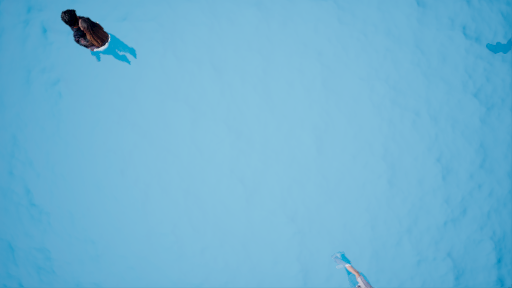person: (56, 8, 142, 66), (326, 245, 380, 288)
